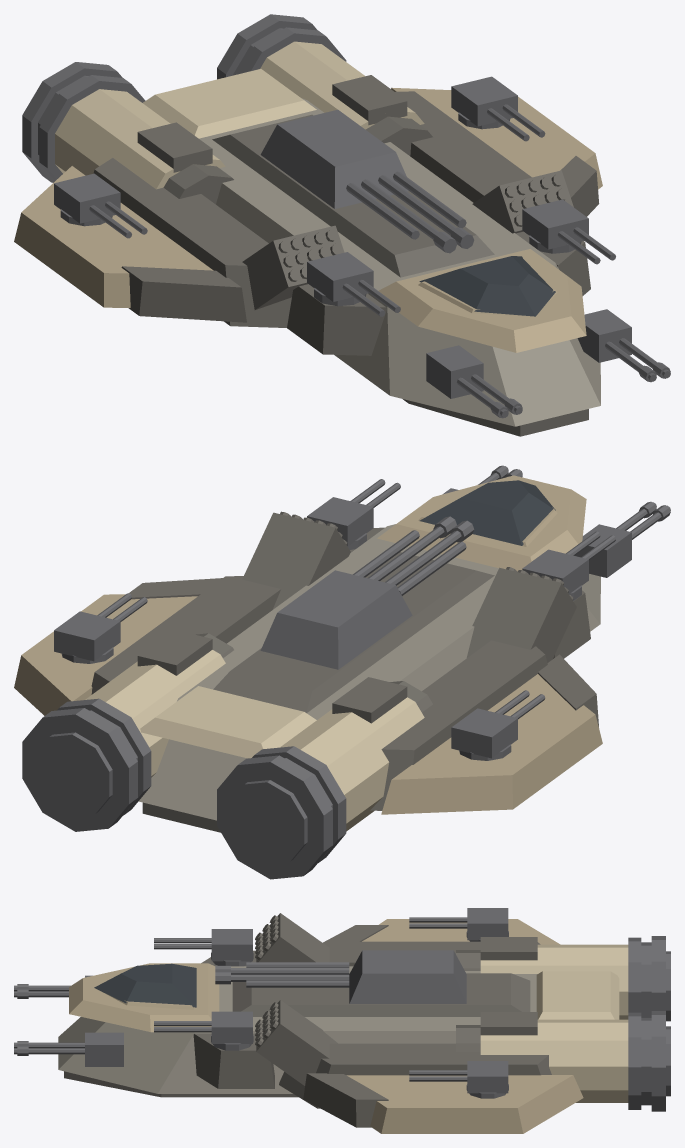
Rendered from breaker.glb.
3 renders of one model, top to bottom at view 1: azimuth 30°, elevation 25°; view 2: azimuth 150°, elevation 25°; view 3: azimuth 270°, elevation 25°, orthographic. The views are drawn at different scales.
Parts seen in each view (by area): view 1: Breaker_Hull, Breaker_Wing_P, Breaker_Sponson_P, Breaker_NosePlate, Breaker_Deck, Breaker_BatteryHouse, Breaker_Nacelle_L, Breaker_SternPlate, Breaker_Sponson_S, Breaker_WingEdge_P, Breaker_Nozzle_L, Breaker_Wing_S (+21 smaller); view 2: Breaker_Hull, Breaker_Wing_P, Breaker_Nozzle_R, Breaker_Nozzle_L, Breaker_Deck, Breaker_BatteryHouse, Breaker_Sponson_P, Breaker_Nacelle_L, Breaker_SternPlate, Breaker_Pod_P, Breaker_Wing_S, Breaker_NosePlate (+16 smaller); view 3: Breaker_Hull, Breaker_Wing_S, Breaker_Nacelle_R, Breaker_Deck, Breaker_BatteryHouse, Breaker_Sponson_S, Breaker_NosePlate, Breaker_SternPlate, Breaker_Nozzle_R, Breaker_Pod_S, Breaker_Nacelle_L, Breaker_Canopy (+20 smaller).
Boxes of the visible parts, bbox=[...] form: Breaker_Hull: bbox=[199, 98, 600, 426]; Breaker_Wing_P: bbox=[14, 166, 213, 307]; Breaker_Sponson_P: bbox=[93, 158, 291, 327]; Breaker_NosePlate: bbox=[378, 249, 586, 352]; Breaker_Deck: bbox=[212, 114, 494, 277]; Breaker_BatteryHouse: bbox=[260, 109, 408, 208]; Breaker_Nacelle_L: bbox=[55, 89, 225, 189]; Breaker_SternPlate: bbox=[143, 69, 316, 138]; Breaker_Sponson_S: bbox=[395, 91, 531, 202]; Breaker_WingEdge_P: bbox=[121, 266, 246, 322]; Breaker_Nozzle_L: bbox=[22, 62, 145, 182]; Breaker_Wing_S: bbox=[391, 87, 602, 189]; Breaker_Hull: bbox=[138, 524, 600, 820]; Breaker_Wing_P: bbox=[381, 674, 602, 814]; Breaker_Nozzle_R: bbox=[22, 698, 151, 831]; Breaker_Nozzle_L: bbox=[217, 746, 346, 879]; Breaker_Deck: bbox=[213, 552, 494, 713]; Breaker_BatteryHouse: bbox=[260, 570, 412, 669]; Breaker_Sponson_P: bbox=[370, 640, 547, 810]; Breaker_Nacelle_L: bbox=[280, 697, 424, 831]; Breaker_SternPlate: bbox=[140, 686, 316, 758]; Breaker_Pod_P: bbox=[466, 567, 576, 662]; Breaker_Wing_S: bbox=[14, 594, 197, 715]; Breaker_NosePlate: bbox=[377, 475, 586, 571]; Breaker_Hull: bbox=[58, 966, 537, 1093]; Breaker_Wing_S: bbox=[346, 1075, 583, 1133]; Breaker_Nacelle_R: bbox=[480, 1019, 628, 1102]; Breaker_Deck: bbox=[232, 973, 530, 1016]; Breaker_BatteryHouse: bbox=[349, 950, 466, 1003]; Breaker_Sponson_S: bbox=[279, 1043, 551, 1108]; Breaker_NosePlate: bbox=[69, 963, 219, 1032]; Breaker_SternPlate: bbox=[536, 971, 619, 1019]; Breaker_Nozzle_R: bbox=[628, 1011, 670, 1111]; Breaker_Pod_S: bbox=[255, 1000, 337, 1085]; Breaker_Nacelle_L: bbox=[480, 944, 628, 1019]; Breaker_Canopy: bbox=[94, 963, 196, 1007].
Size of the model in its own units: 6.4 by 1.68 by 9.26.
